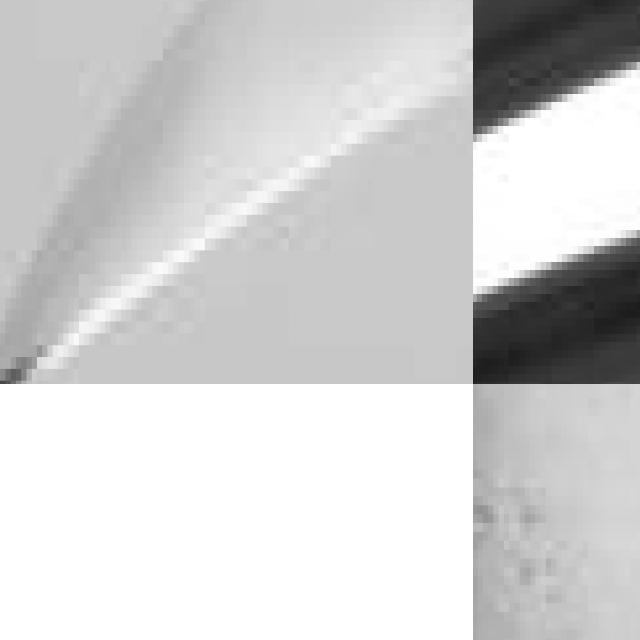forks: (473, 0, 640, 384)
spoons: (0, 0, 473, 384)
